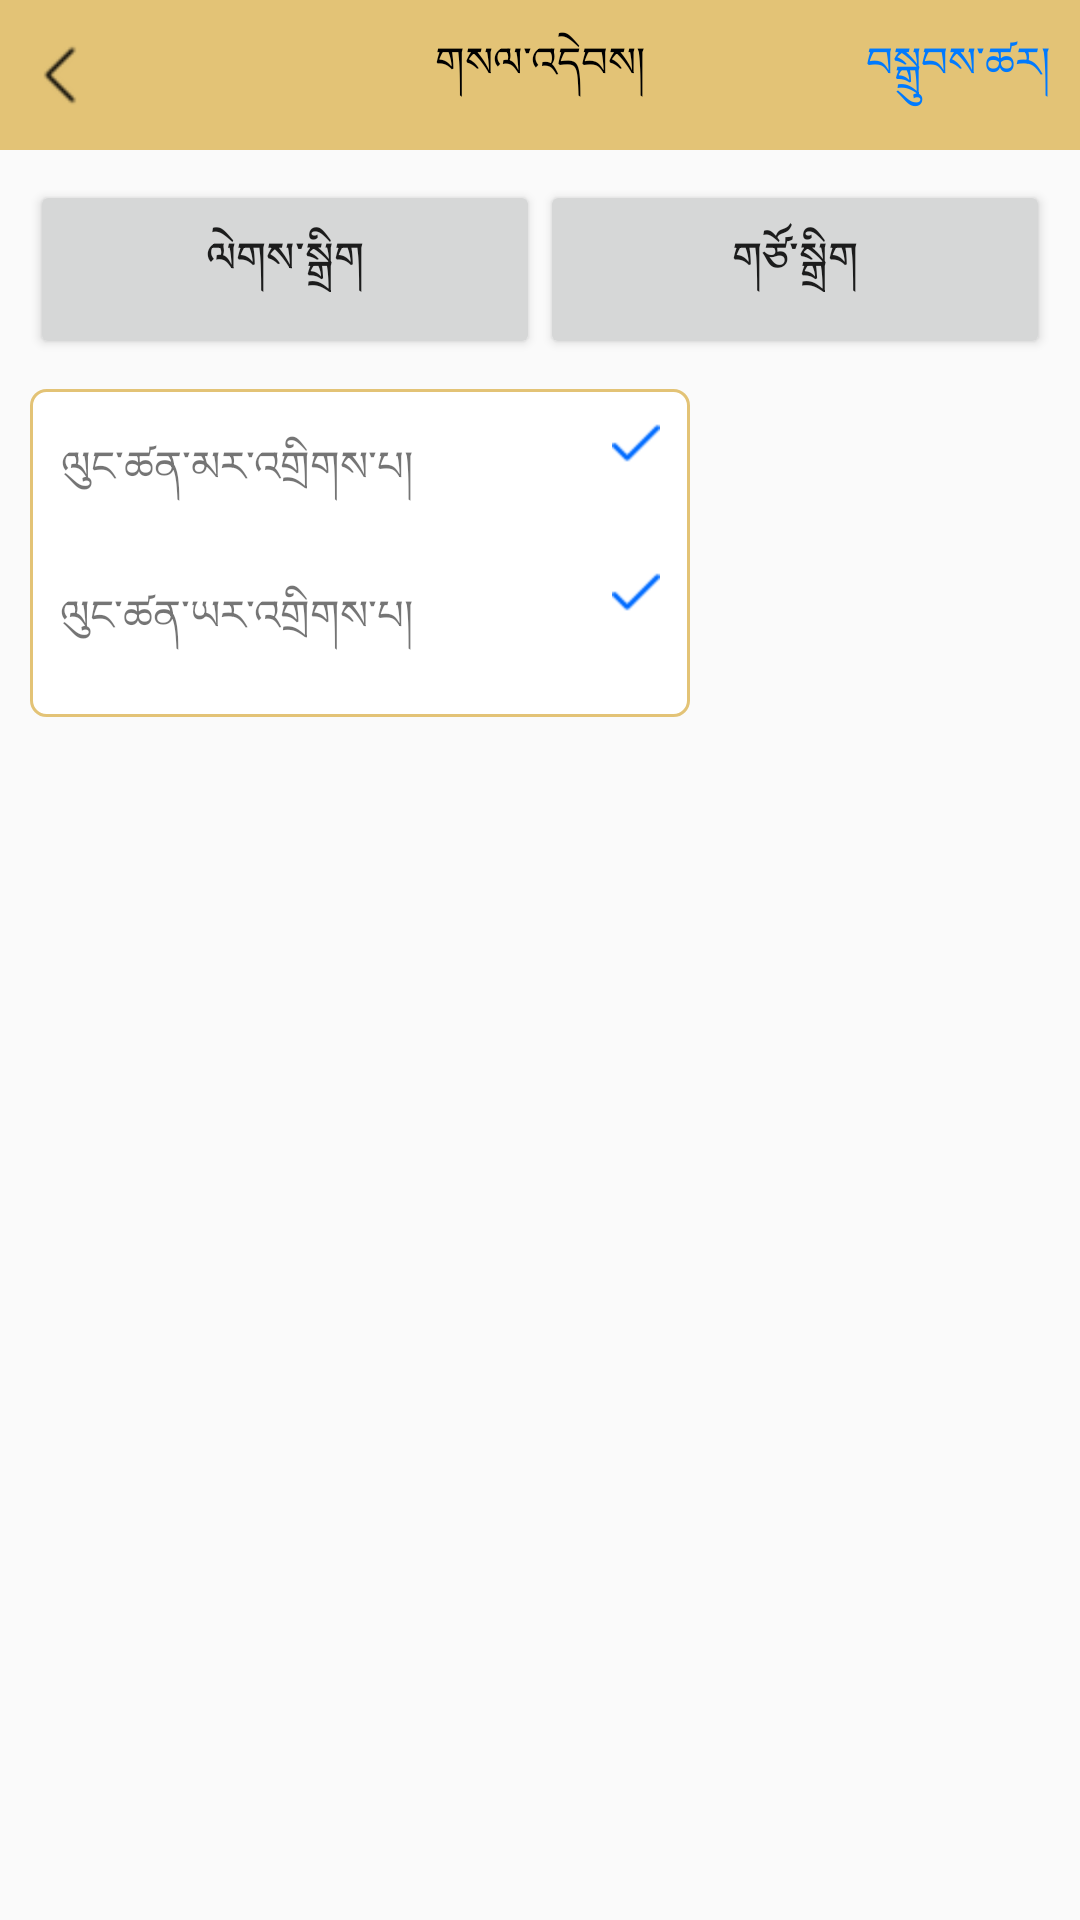

Named icons in this screenshot (1080x1920) and their bounding boxes, (x1, y1, x2, y2):
checked: (612, 424, 660, 462), (612, 573, 660, 611)
left arrow: (44, 47, 76, 103)
